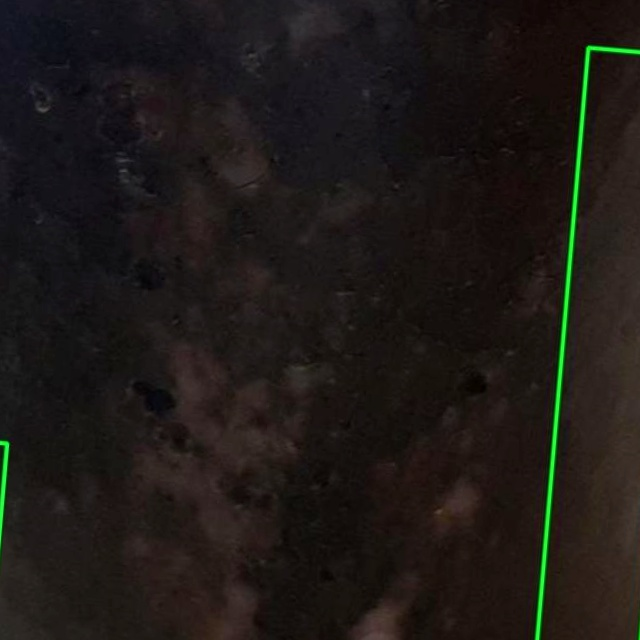Contact Dermatitis: (537, 47, 639, 639)
